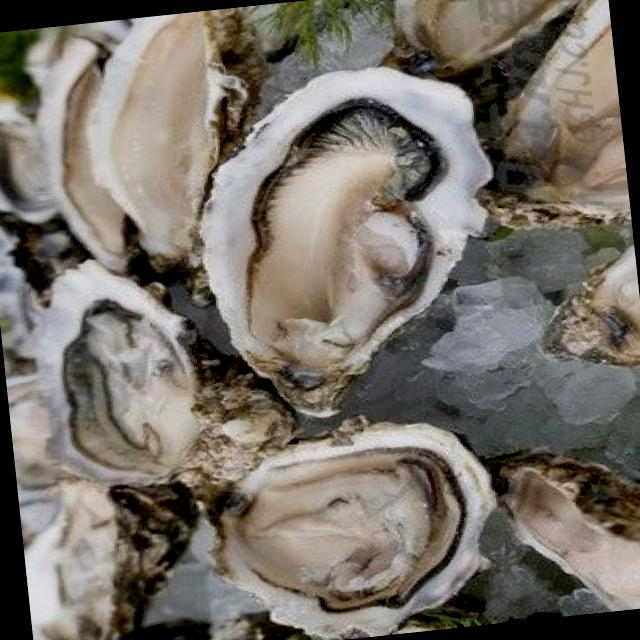Oyster-Open: (200, 70, 494, 420), (209, 418, 497, 640), (33, 262, 297, 490), (89, 7, 264, 275), (475, 0, 631, 230), (24, 480, 192, 640), (37, 34, 143, 280), (484, 446, 640, 612), (396, 0, 578, 72), (540, 245, 640, 368)
